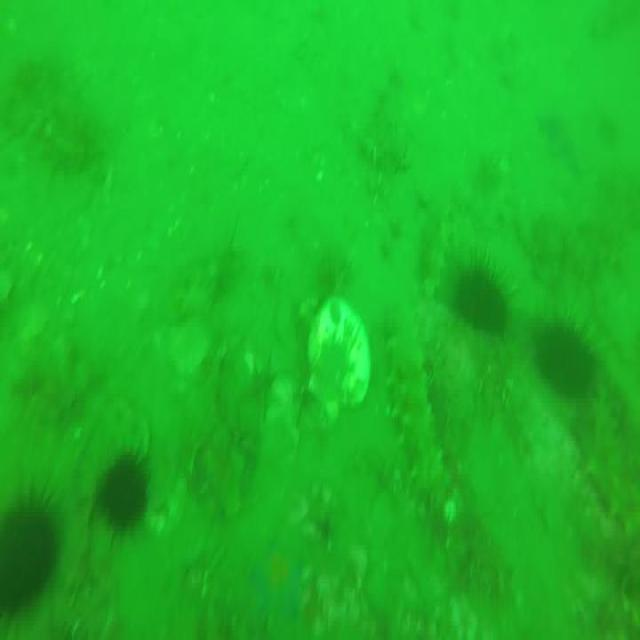echinus: (0, 487, 62, 619), (531, 310, 601, 401), (457, 256, 510, 343), (105, 453, 151, 532)
holothurian: (383, 322, 441, 487), (569, 430, 640, 537)
scallop: (308, 291, 374, 430)
starfish: (251, 532, 301, 628)
